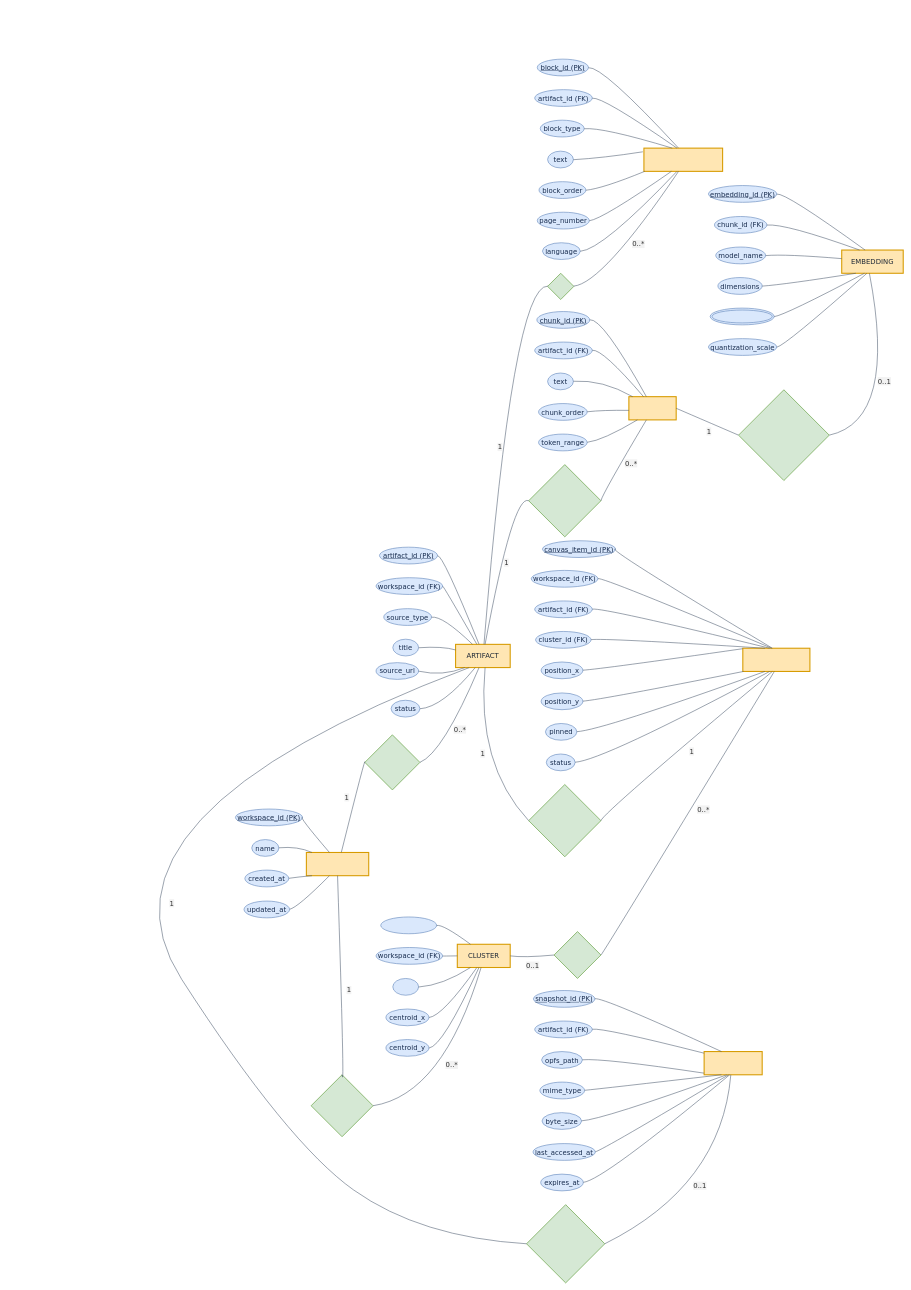
Image size: 911x1290. Some labels were removed from this diagram. Each missing label, with the centre of its shape:
"CANVAS_ITEM" goes at point (776, 659).
"CHUNK" goes at point (652, 408).
"cluster_id (PK)" goes at point (408, 925).
"CONTAINS" goes at point (392, 762).
"CONTENT_BLOCK" goes at point (683, 159).
"DISPLAYED AS" goes at point (564, 820).
"DIVIDED INTO" goes at point (564, 500).
"GROUPS" goes at point (577, 955).
"HAS" goes at point (560, 286).
"label" goes at point (405, 986).
"ORGANIZES" goes at point (341, 1105).
"PREVIEWED BY" goes at point (565, 1243).
"quantized_vector" goes at point (742, 316).
"REPRESENTED BY" goes at point (783, 435).
"SNAPSHOT" goes at point (733, 1063).
"WORKSPACE" goes at point (337, 864).
